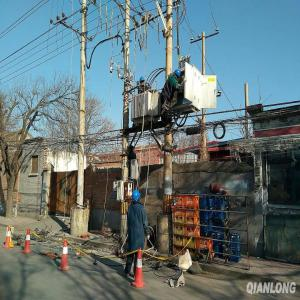blue: (132, 190, 143, 206), (174, 68, 182, 81), (140, 77, 146, 86)
